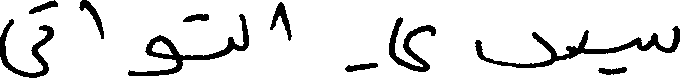ا: (83, 0, 103, 40), (280, 0, 290, 42)
ت: (183, 12, 234, 60), (30, 0, 54, 39)
د: (476, 29, 555, 68)
س: (637, 24, 677, 53)
ل: (237, 11, 247, 51)
و: (127, 32, 181, 76)
ى: (0, 25, 44, 76)
ي: (345, 15, 435, 73), (577, 28, 626, 76)
